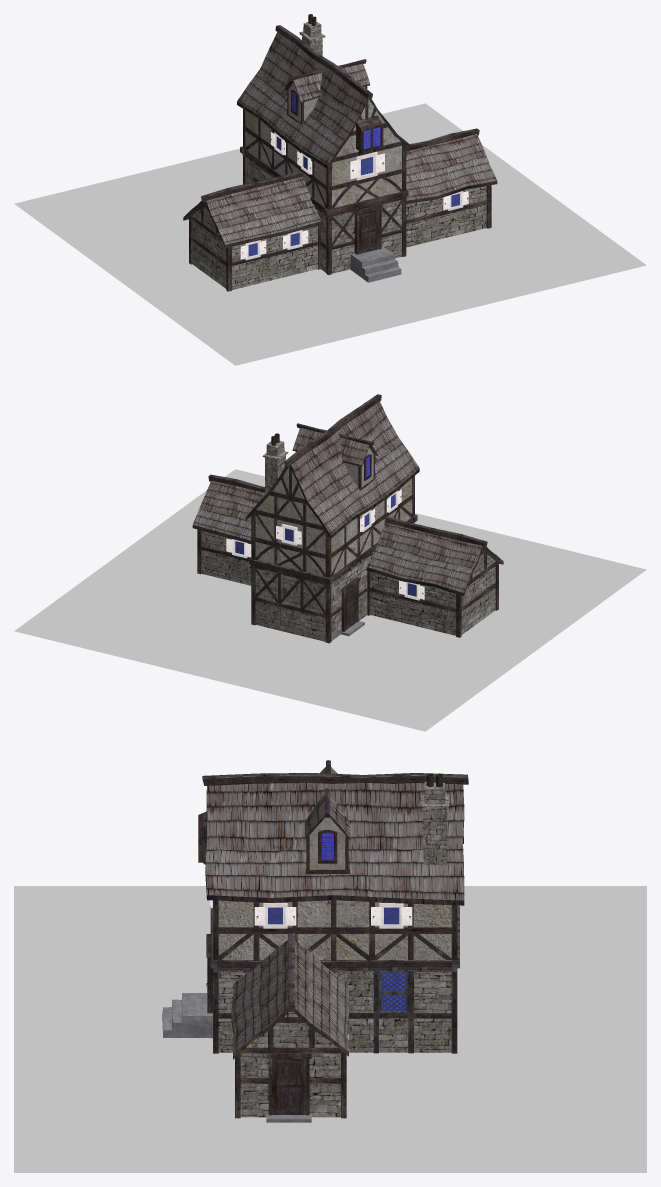
The model's file is terror_house.glb.
3 views of the same model, one above another, from view 1: azimuth 30°, elevation 25°; view 2: azimuth 150°, elevation 25°; view 3: azimuth 270°, elevation 25° (orthographic). The views are drawn at different scales.
Parts seen in each view (by area): view 1: Plane, Roof, Level1, WoodenBeams, Level2, RoofFrame, WindowFrames, Steps, DoorFront, Chimney; view 2: Plane, Roof, Level1, WoodenBeams, Level2, RoofFrame, WindowFrames, Chimney; view 3: Plane, Roof, Level1, WoodenBeams, Level2, RoofFrame, WindowFrames, Steps, Chimney, DoorSide, Level3, Window1Level1 (+1 smaller).
Boxes of the visible parts, x1,y1,x2,y2 form: Plane: (14,103,646,365); Roof: (206,31,496,244); Level1: (192,157,486,289); WoodenBeams: (189,81,491,291); Level2: (245,99,401,207); RoofFrame: (183,25,497,248); WindowFrames: (240,89,468,260); Steps: (350,246,401,282); DoorFront: (359,210,379,253); Chimney: (299,21,325,55); Plane: (14,469,646,731); Roof: (192,401,482,592); Level1: (201,530,495,641); WoodenBeams: (197,446,498,643); Level2: (255,467,412,575); RoofFrame: (192,394,503,596); WindowFrames: (226,454,424,600); Chimney: (262,440,288,494); Plane: (14,886,646,1172); Roof: (205,767,464,1054); Level1: (218,971,451,1117); WoodenBeams: (210,817,459,1118); Level2: (218,900,451,959); RoofFrame: (202,760,468,1059); WindowFrames: (198,811,412,1058); Steps: (162,993,212,1038); Chimney: (420,782,449,865); DoorSide: (272,1059,306,1114); Level3: (309,817,345,869); Window1Level1: (381,972,406,1011).
Size of the model in its own units: 22.44 by 9.79 by 20.92.
17 materials, 16 textured.
